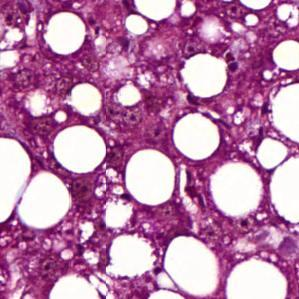steatosis: (160, 235, 224, 299), (126, 149, 180, 208), (49, 123, 108, 175), (172, 111, 220, 158), (42, 12, 90, 59)
